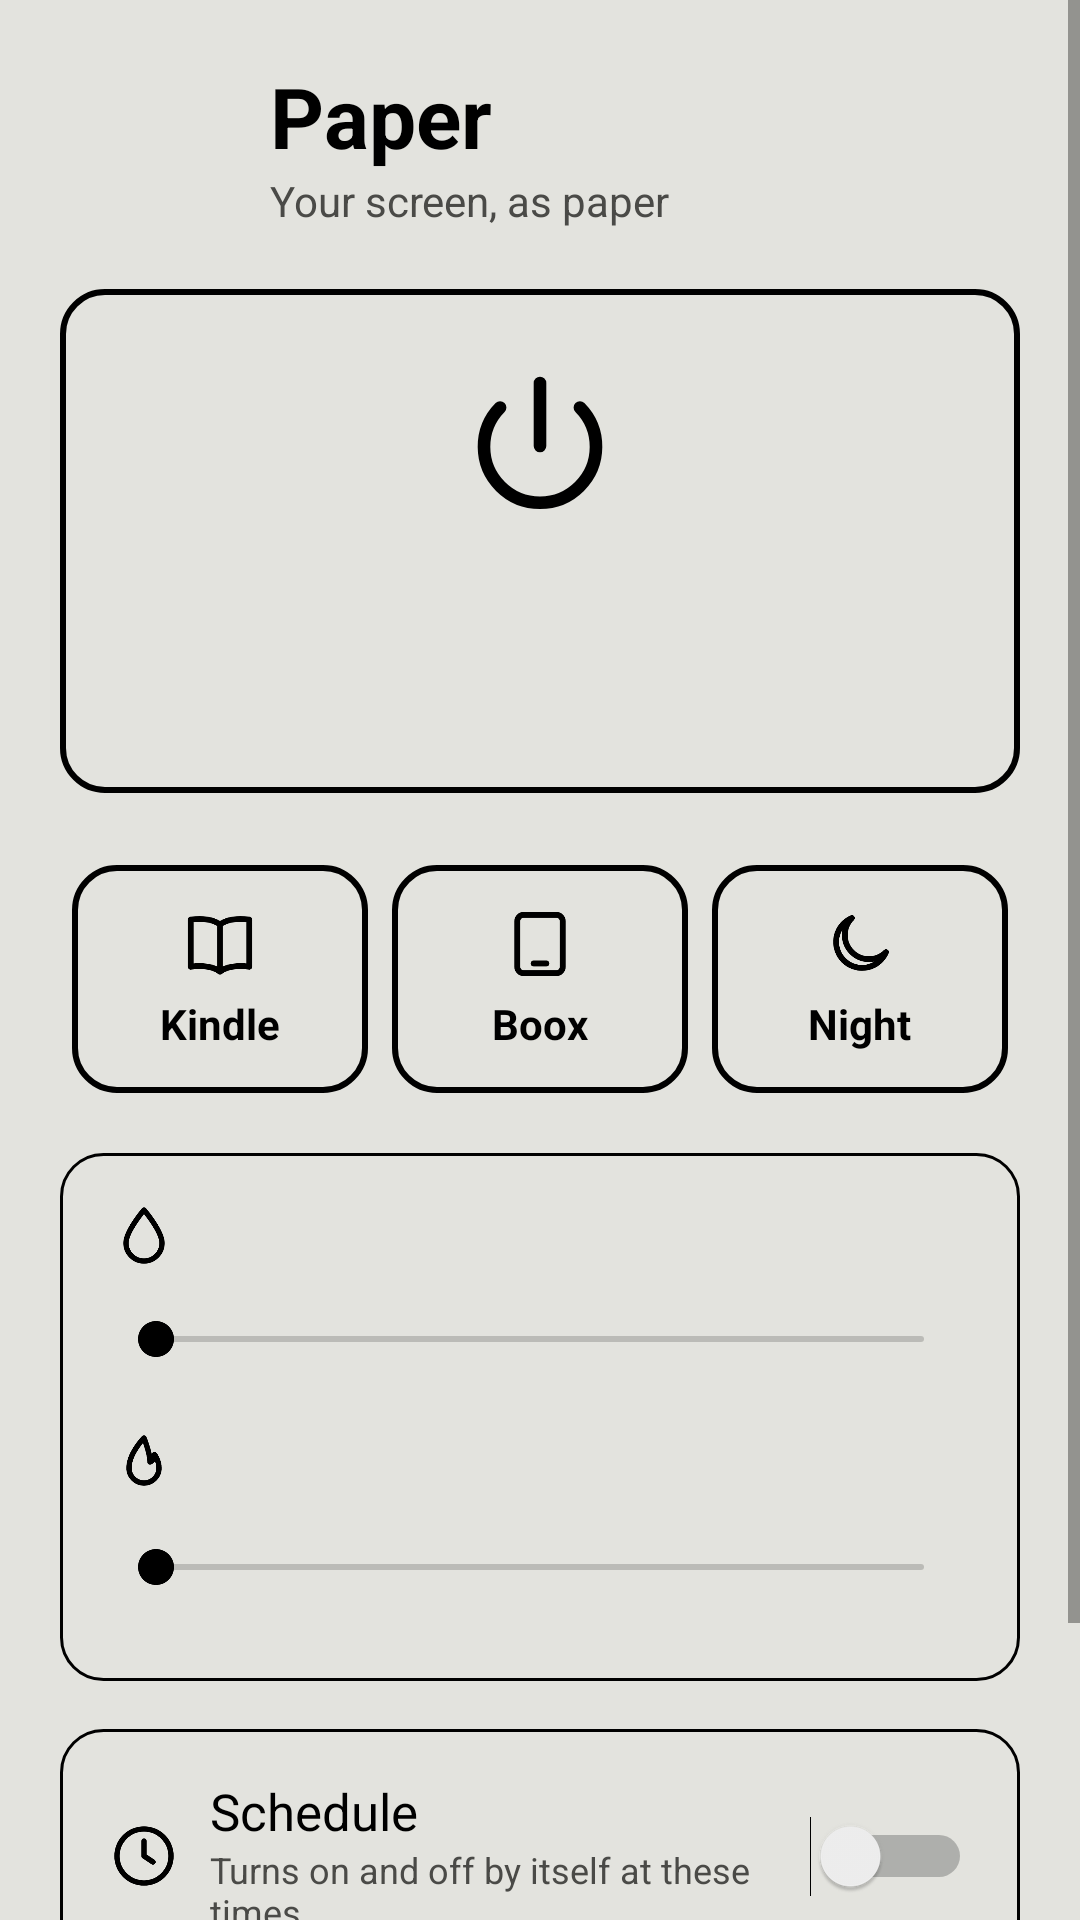

Where icons sit on this 1080 × 1920 app screen, as [x1,y1,x2,y2]:
book: [188,916,252,975]
clock: [114,1826,174,1886]
moon: [833,915,889,971]
power: [477,376,603,509]
screen: [514,912,566,976]
tone: [123,1207,165,1264]
warm: [126,1435,162,1486]
